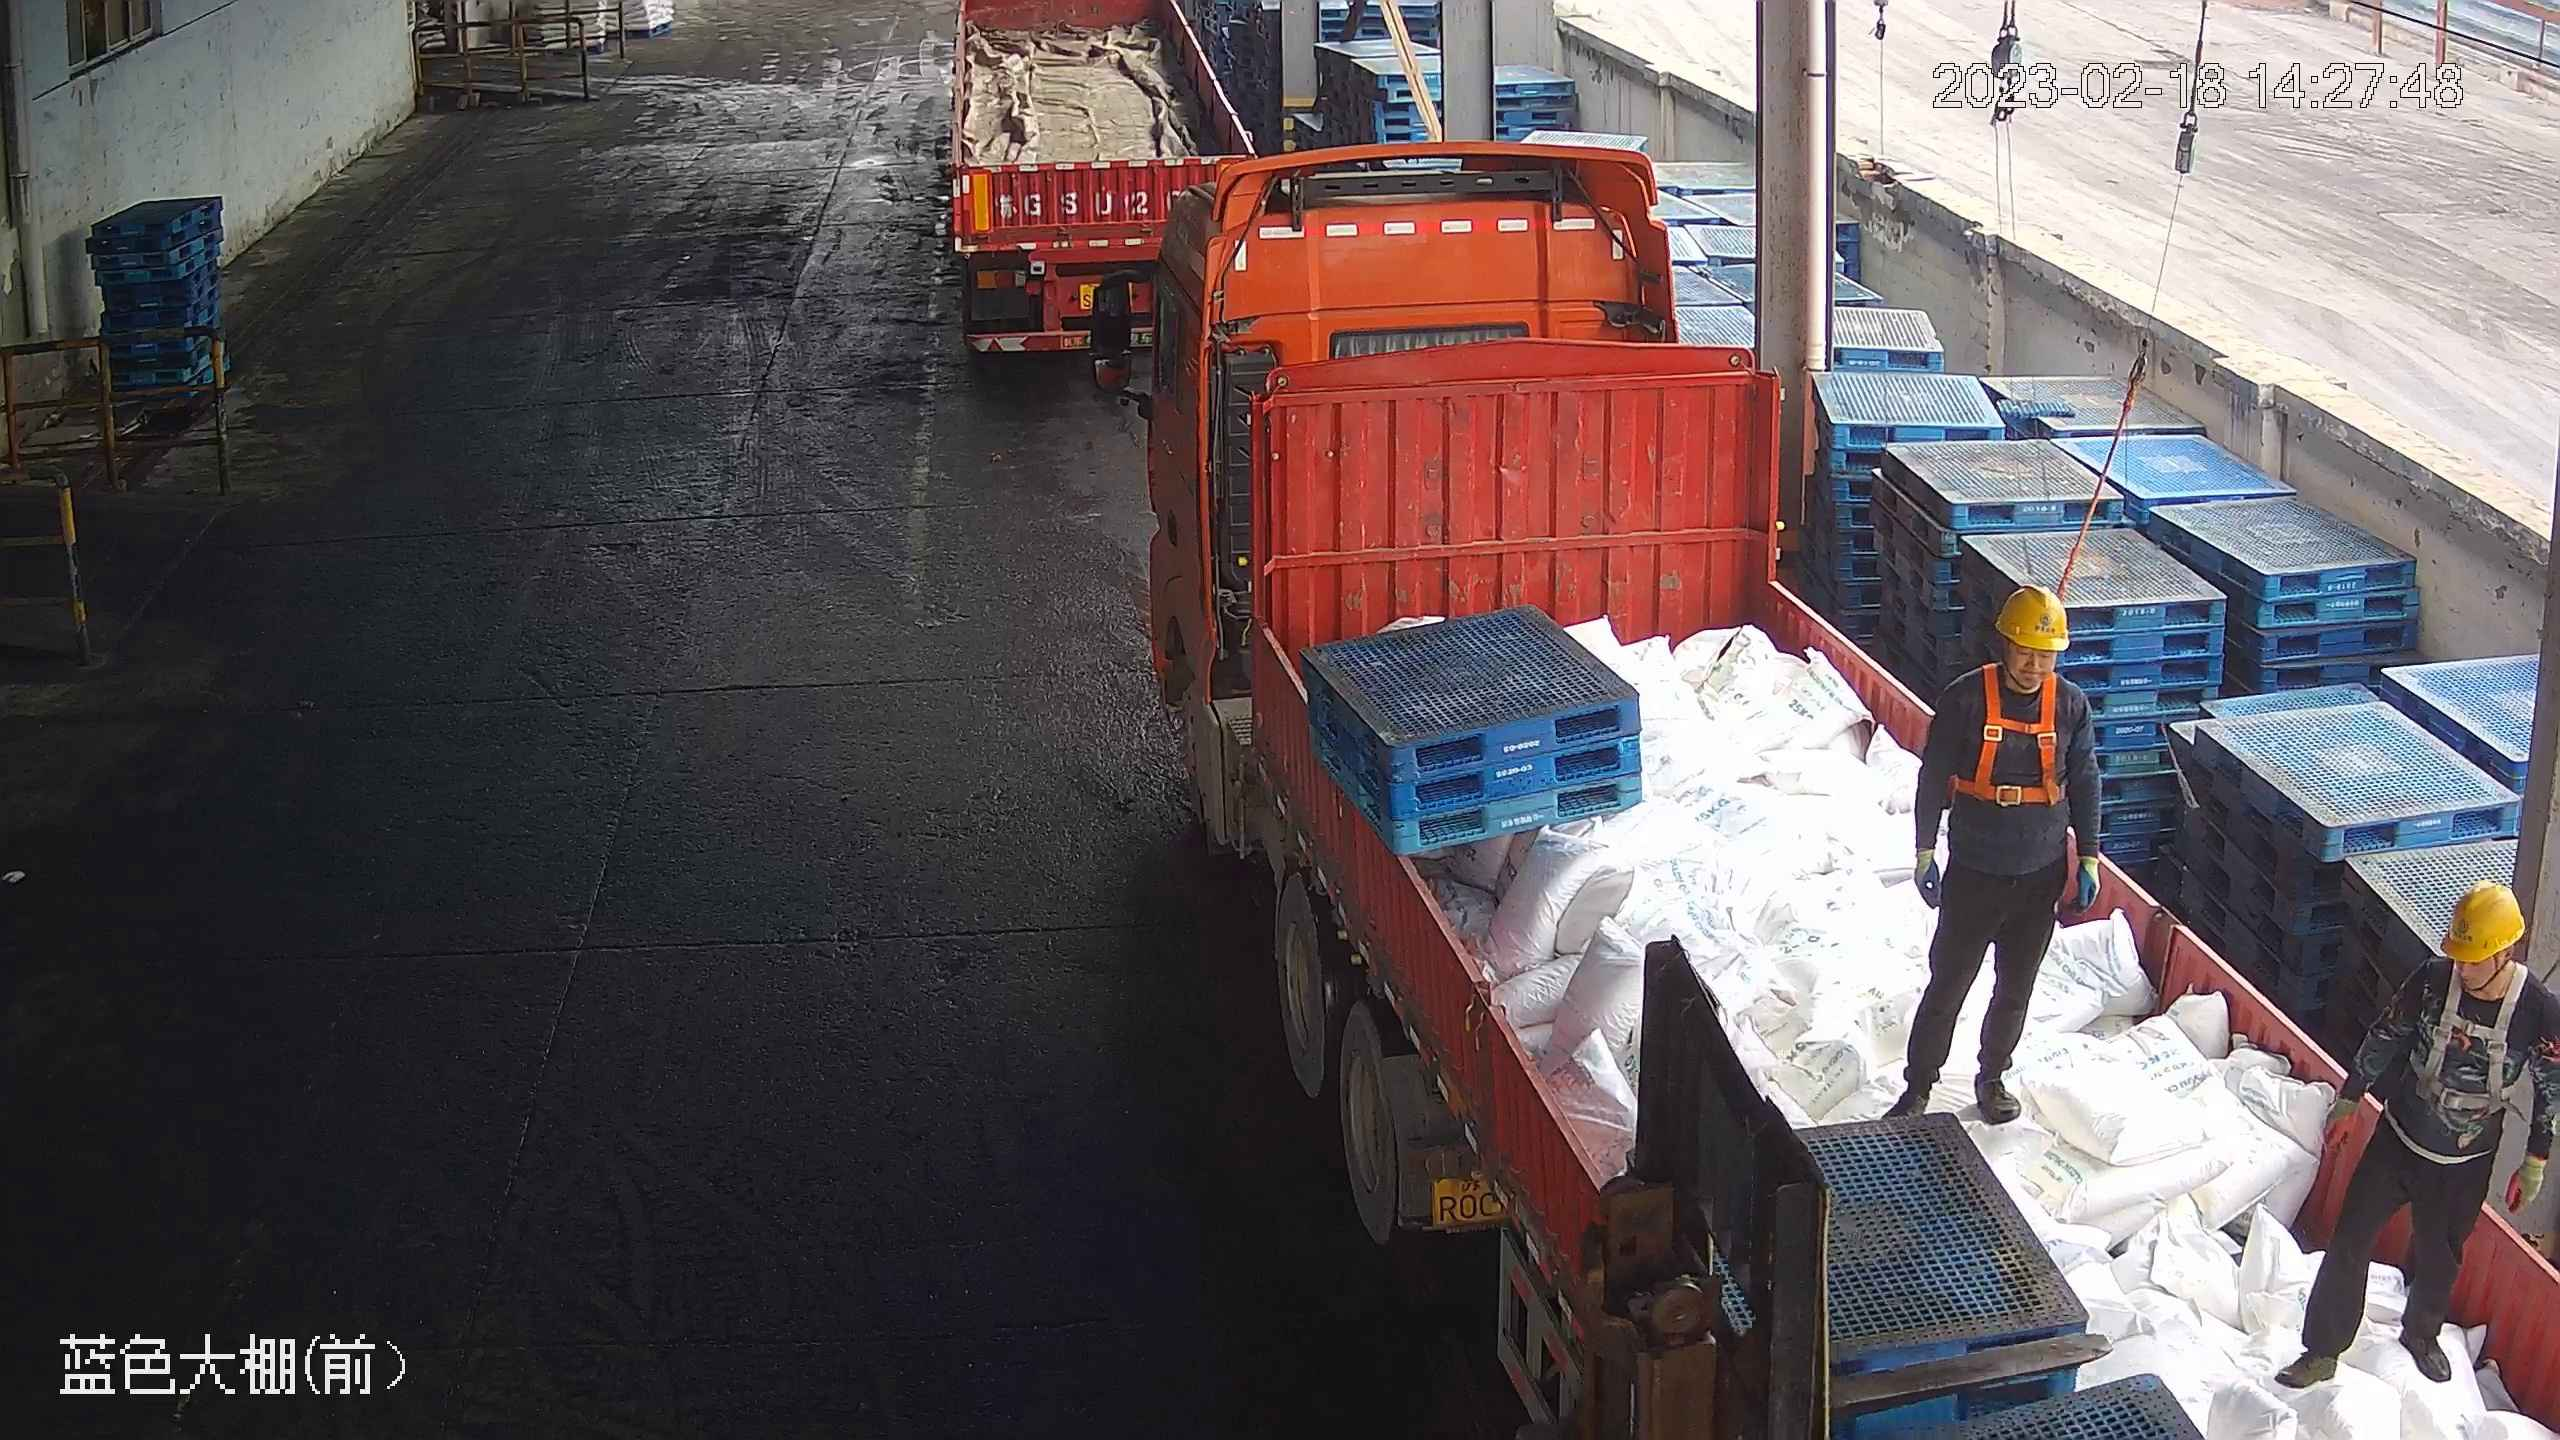belt: (1954, 657, 2071, 806), (2413, 976, 2530, 1110)
head: (2376, 877, 2559, 1078), (1927, 580, 2094, 744)
helmet: (2435, 877, 2527, 964), (1992, 579, 2070, 652)
people: (2275, 877, 2559, 1392), (1885, 578, 2104, 1125)
truck: (1086, 153, 2551, 1440), (936, 2, 1271, 376)
